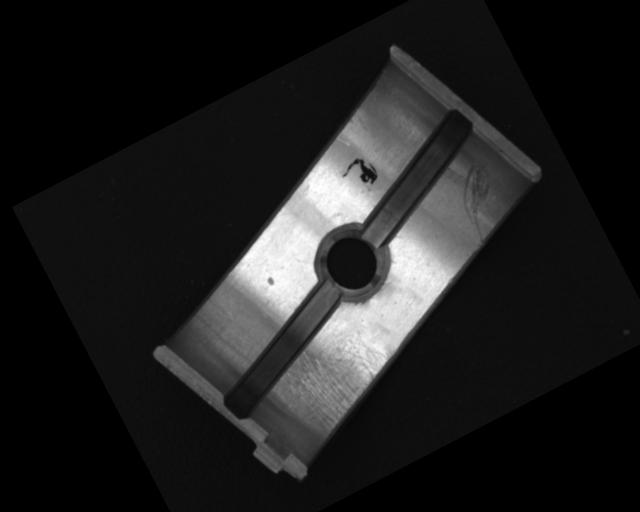blot: (335, 151, 382, 196)
bruise: (264, 274, 276, 287)
gap: (195, 277, 369, 424), (330, 103, 503, 250)
hole: (306, 217, 395, 306)
nick: (444, 158, 516, 245)
scratch: (261, 316, 410, 448)
